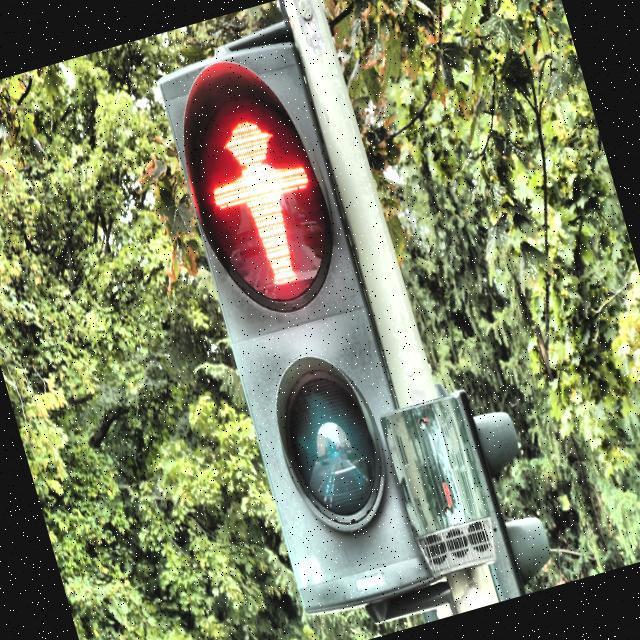red_light: (190, 99, 336, 301)
